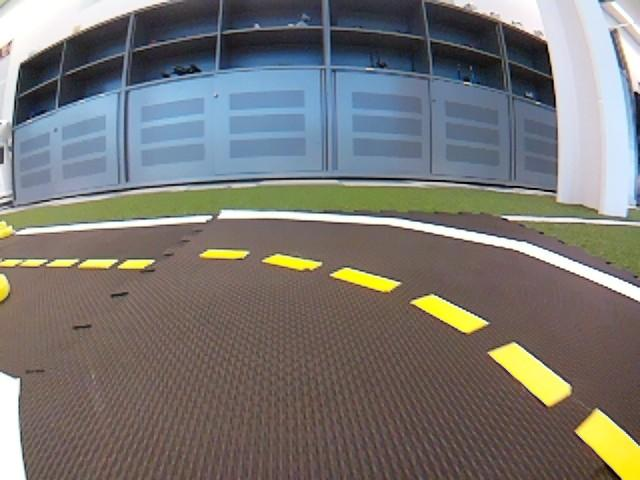Duckies: (0, 276, 10, 305), (1, 219, 15, 239)
